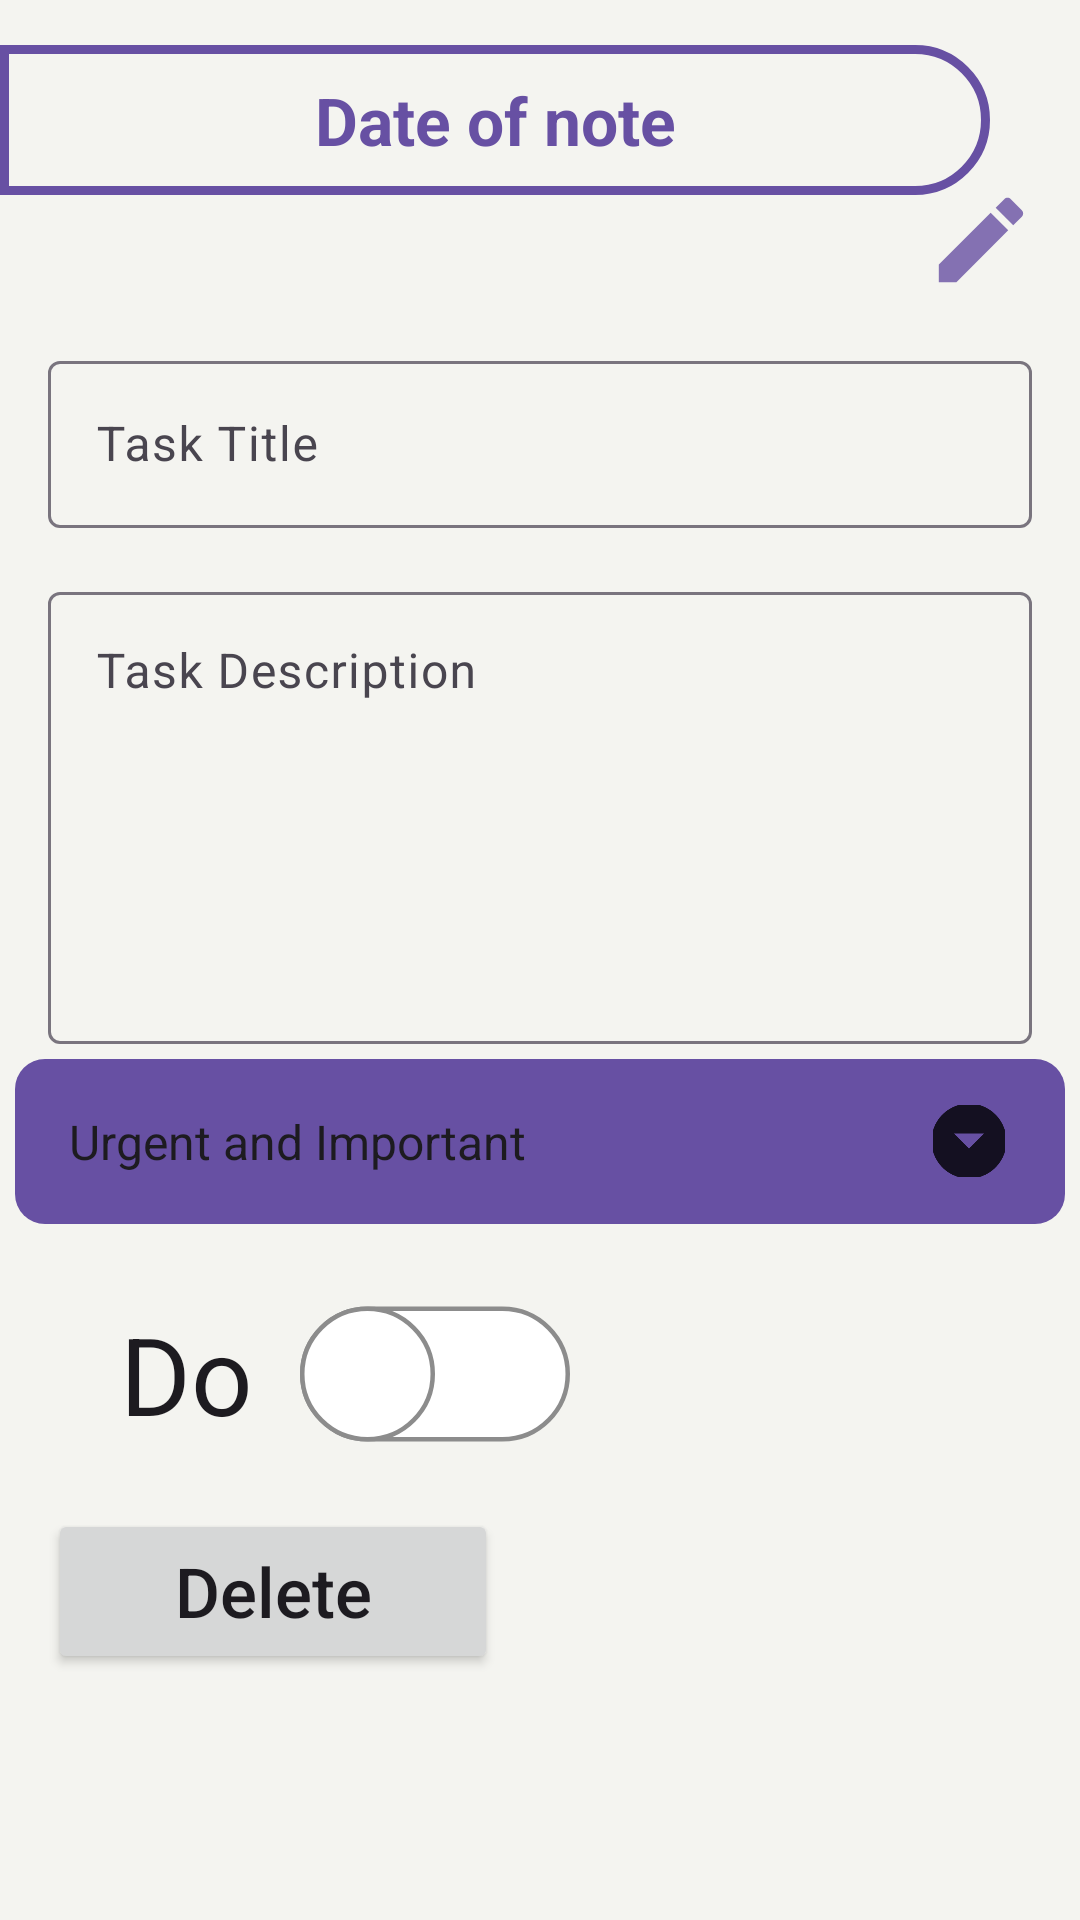

Where to tap for icons on this 1080×1920 app screen, as [x,y]:
edit: [980,240]
